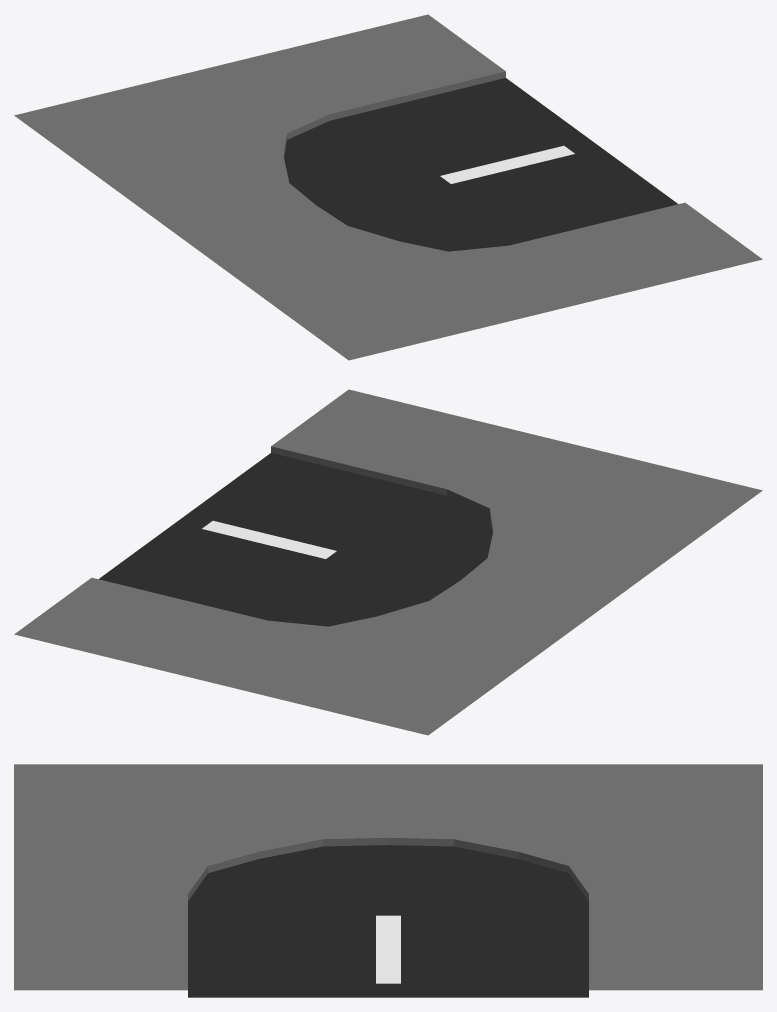
Rendered from endRoad.obj.
3 views of the same model, one above another, from view 1: azimuth 30°, elevation 25°; view 2: azimuth 150°, elevation 25°; view 3: azimuth 270°, elevation 25° (orthographic). The views are drawn at different scales.
Visible parts, largest first — view 1: end; view 2: end; view 3: end.
Part boxes in pixels (x1,y1,x2,y2): end: (14,14,762,360); end: (14,389,762,735); end: (14,764,762,997).
Bounding box in the file's own units: 10 × 0.15 × 14.
